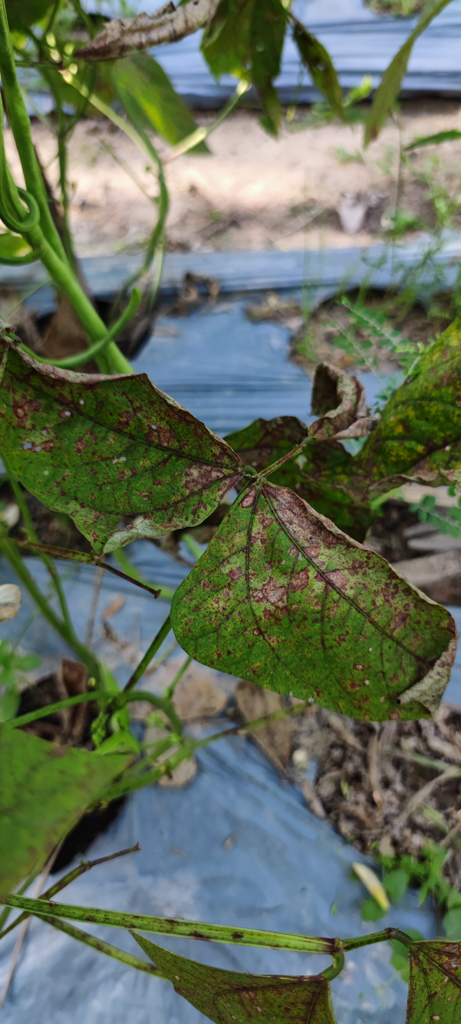Rust: (174, 486, 454, 723), (5, 319, 236, 541), (352, 311, 457, 518)
